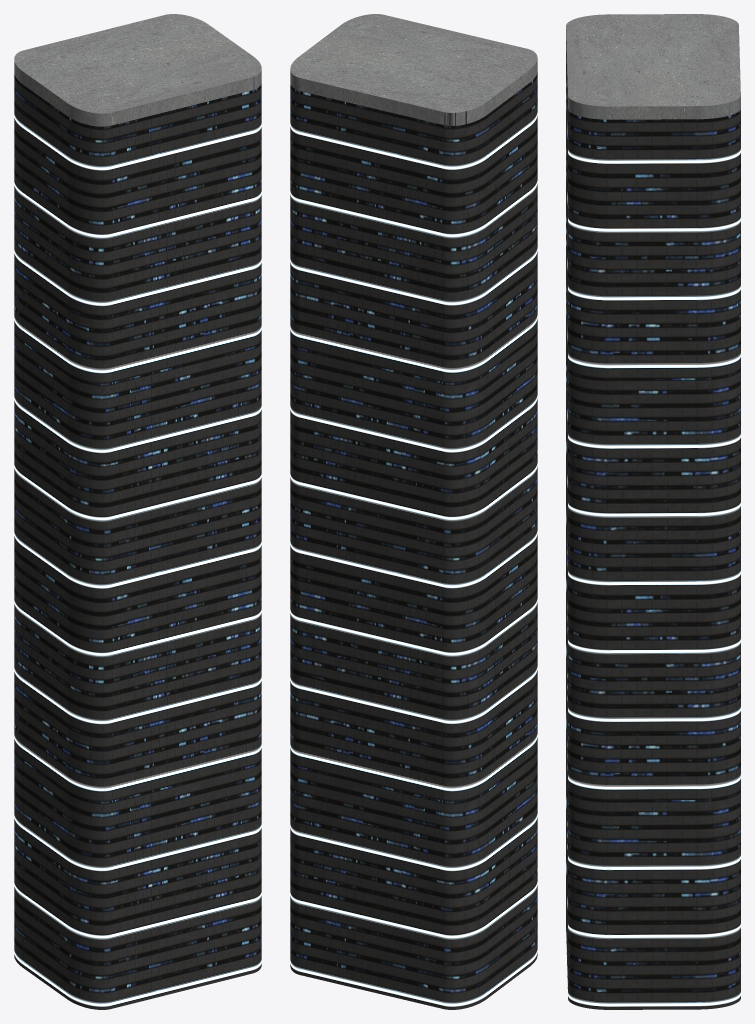
Rendered from lightshow-skyscraper.glb.
3 views of the same model, side by side, from view 1: azimuth 30°, elevation 25°; view 2: azimuth 150°, elevation 25°; view 3: azimuth 270°, elevation 25° (orthographic).
Parts seen in each view (by area): view 1: Cube.038; view 2: Cube.038; view 3: Cube.038.
Part boxes in pixels (x1,y1,x2,y2): Cube.038: (14, 14, 261, 1009); Cube.038: (290, 14, 537, 1009); Cube.038: (566, 14, 740, 1009).
Bounding box in the file's own units: 57.23 × 260 × 45.67.
Materials: 1 (1 with a texture image).
